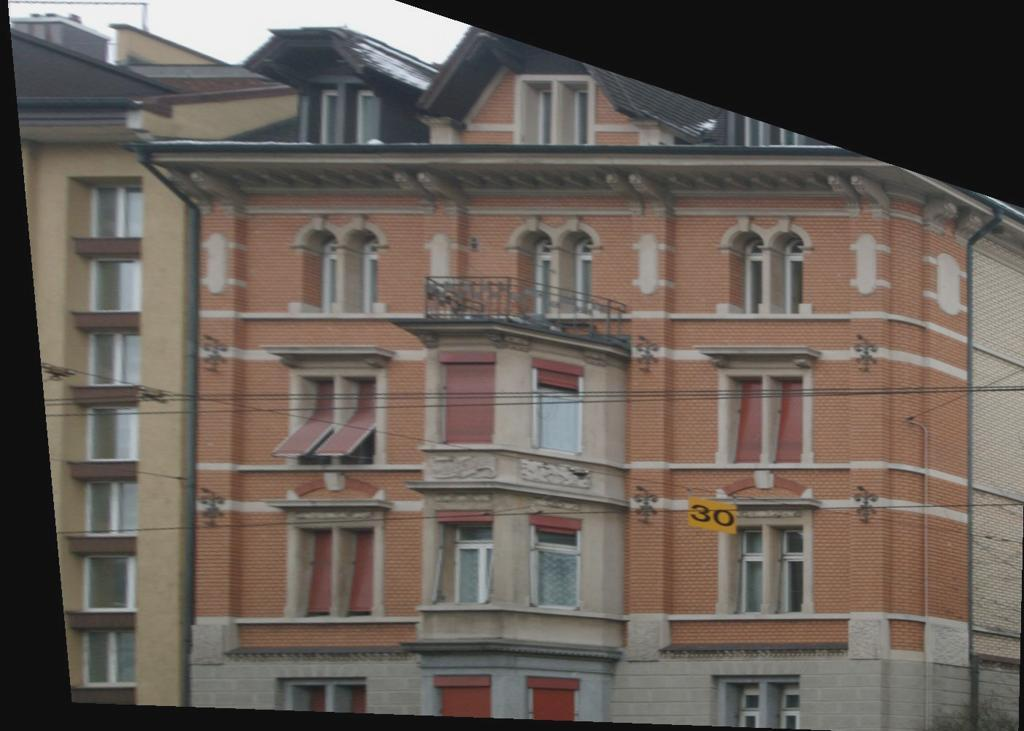window: (439, 352, 497, 446), (435, 511, 493, 604), (69, 177, 145, 239), (66, 254, 141, 314), (64, 327, 140, 386), (62, 404, 138, 463), (62, 478, 138, 537), (62, 553, 138, 612), (59, 627, 135, 686), (535, 361, 583, 453), (532, 515, 580, 607), (342, 376, 377, 465), (298, 377, 333, 466), (338, 531, 373, 620), (295, 528, 330, 617), (769, 376, 803, 464), (727, 378, 761, 466), (771, 526, 804, 613), (729, 527, 762, 614), (303, 230, 337, 314), (344, 230, 378, 314), (516, 230, 550, 314), (559, 230, 593, 314), (770, 232, 804, 315), (730, 232, 764, 315), (435, 677, 492, 726), (527, 677, 580, 725), (559, 83, 589, 147), (521, 80, 550, 145), (308, 84, 338, 144), (346, 85, 376, 143)
